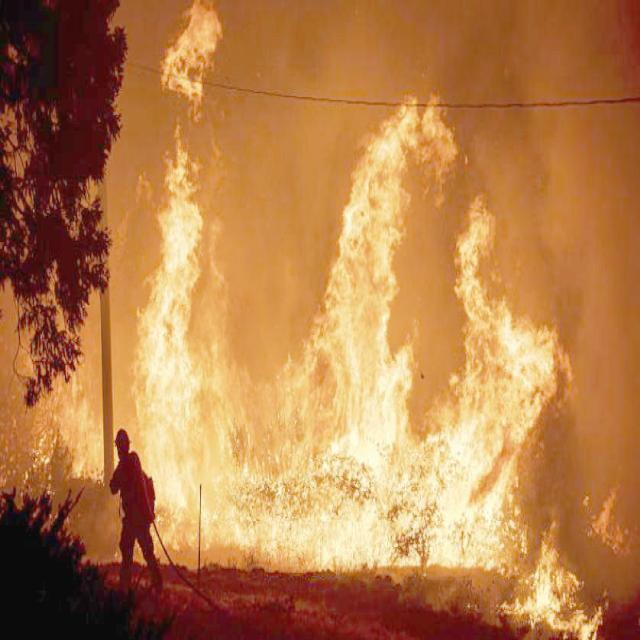api: (230, 363, 531, 569), (145, 146, 222, 554), (322, 180, 390, 372), (508, 539, 595, 640), (460, 207, 508, 378), (368, 101, 458, 181), (49, 367, 98, 478), (165, 10, 227, 96), (590, 488, 634, 563), (520, 324, 558, 408)
